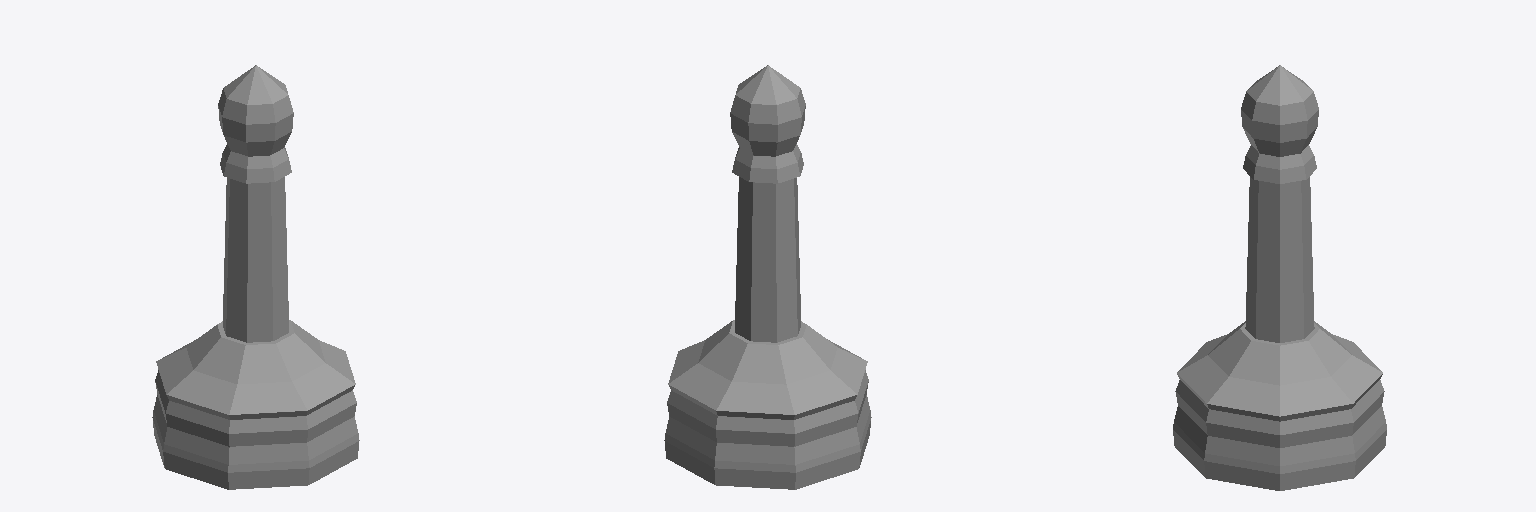
Rendered from Pawn.obj.
The picture shows the model from 3 angles: view 1: azimuth 30°, elevation 25°; view 2: azimuth 150°, elevation 25°; view 3: azimuth 270°, elevation 25°; orthographic projection.
Parts seen in each view (by area): view 1: Black_Pawn_Cylinder.007; view 2: Black_Pawn_Cylinder.007; view 3: Black_Pawn_Cylinder.007.
Part boxes in pixels (left/top/right/bottom): Black_Pawn_Cylinder.007: left=152, top=65, right=359, bottom=489; Black_Pawn_Cylinder.007: left=664, top=65, right=871, bottom=489; Black_Pawn_Cylinder.007: left=1173, top=65, right=1386, bottom=490.
Bounding box in the file's own units: 3.56 × 6.99 × 3.56.